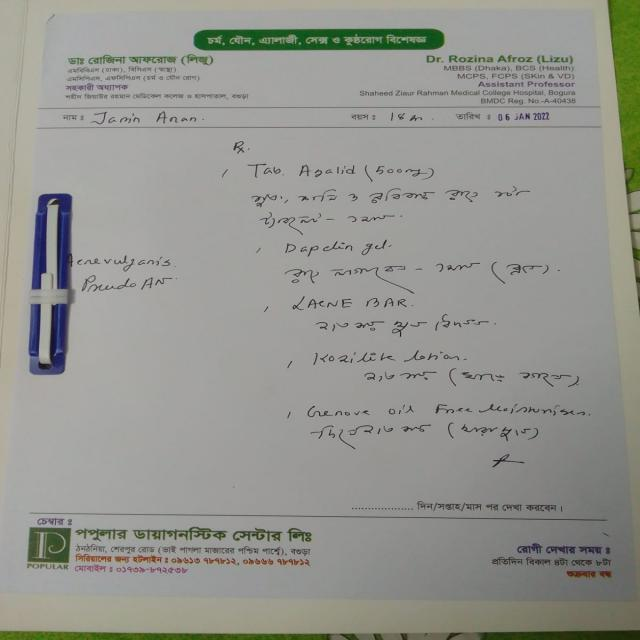Azalid: (300, 157, 359, 180)
Dapclin: (280, 236, 358, 259)
Lacne Bar: (290, 292, 410, 317)
